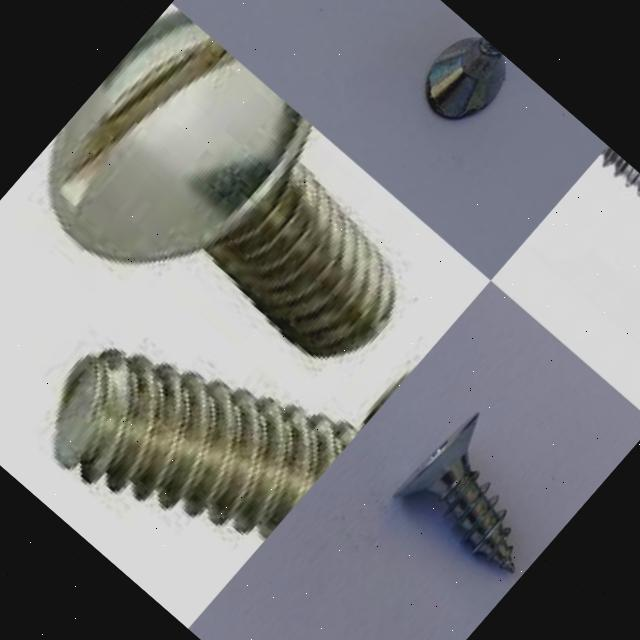Screw: (44, 11, 399, 363), (52, 349, 412, 539), (395, 412, 516, 573), (427, 37, 506, 118)
